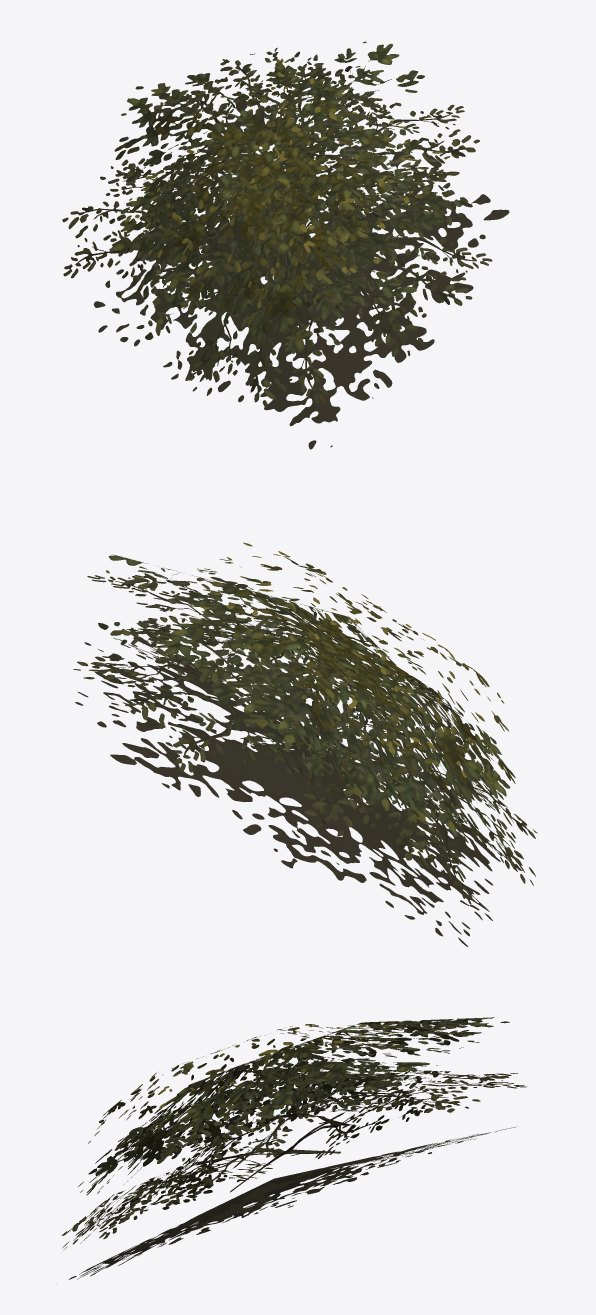
The model's file is plants_bushes09.fbx.
The picture shows the model from 3 angles, top to bottom: view 1: azimuth 30°, elevation 25°; view 2: azimuth 150°, elevation 25°; view 3: azimuth 270°, elevation 25°; orthographic projection. The views are drawn at different scales.
Parts seen in each view (by area): view 1: obj0.120; view 2: obj0.120; view 3: obj0.120.
Part boxes in pixels (x1,y1,x2,y2): obj0.120: (62, 41, 509, 449); obj0.120: (73, 542, 537, 946); obj0.120: (61, 1017, 526, 1279).
Size of the model in its own units: 5.18 by 3.58 by 5.12.
